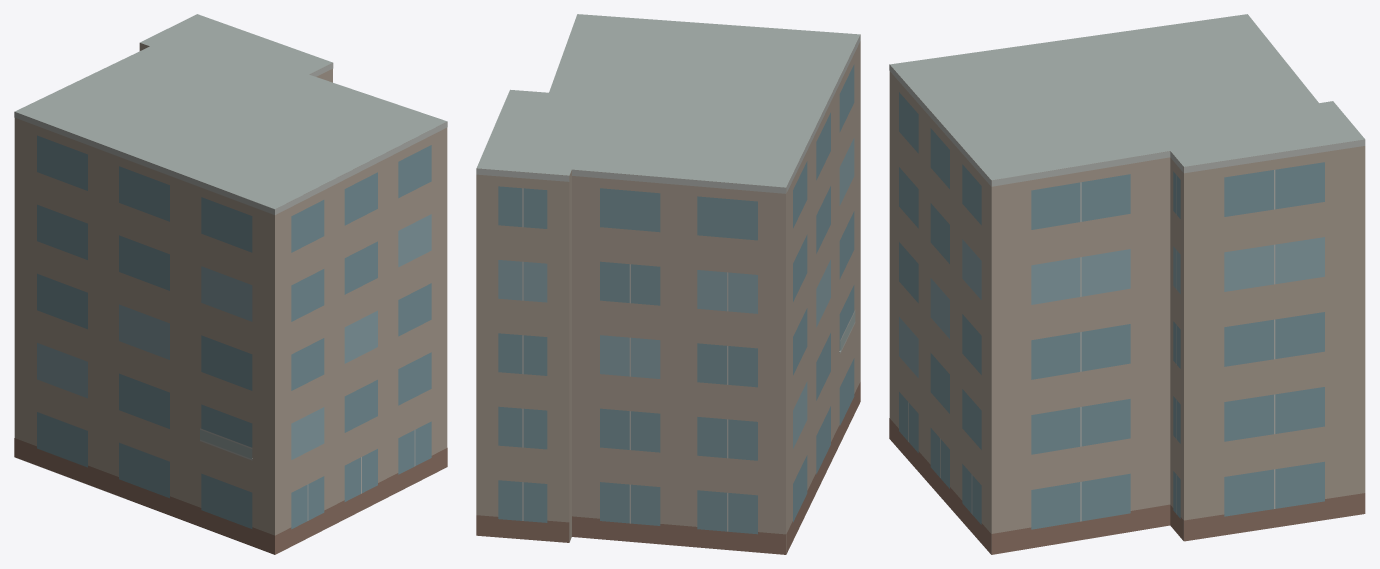
File: survey-upis-32688194.glb
3 views of the same model, side by side, from view 1: azimuth 30°, elevation 25°; view 2: azimuth 150°, elevation 25°; view 3: azimuth 270°, elevation 25° (orthographic). The views are drawn at different scales.
Parts seen in each view (by area): view 1: survey-upis-32688194.tmp; view 2: survey-upis-32688194.tmp; view 3: survey-upis-32688194.tmp.
Part boxes in pixels (bbox=[...]): survey-upis-32688194.tmp: bbox=[14, 14, 447, 554]; survey-upis-32688194.tmp: bbox=[476, 14, 860, 554]; survey-upis-32688194.tmp: bbox=[889, 14, 1365, 554].
Size of the model in its own units: 13.64 by 14.3 by 16.48.
